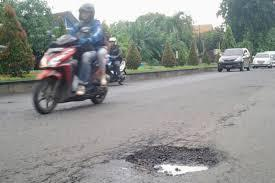Pothole: (111, 124, 226, 182)
